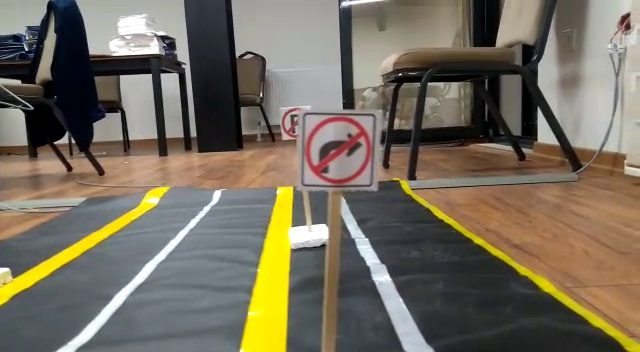park_yapilmaz: (280, 107, 299, 139)
saga_donulmez: (299, 111, 376, 190)
